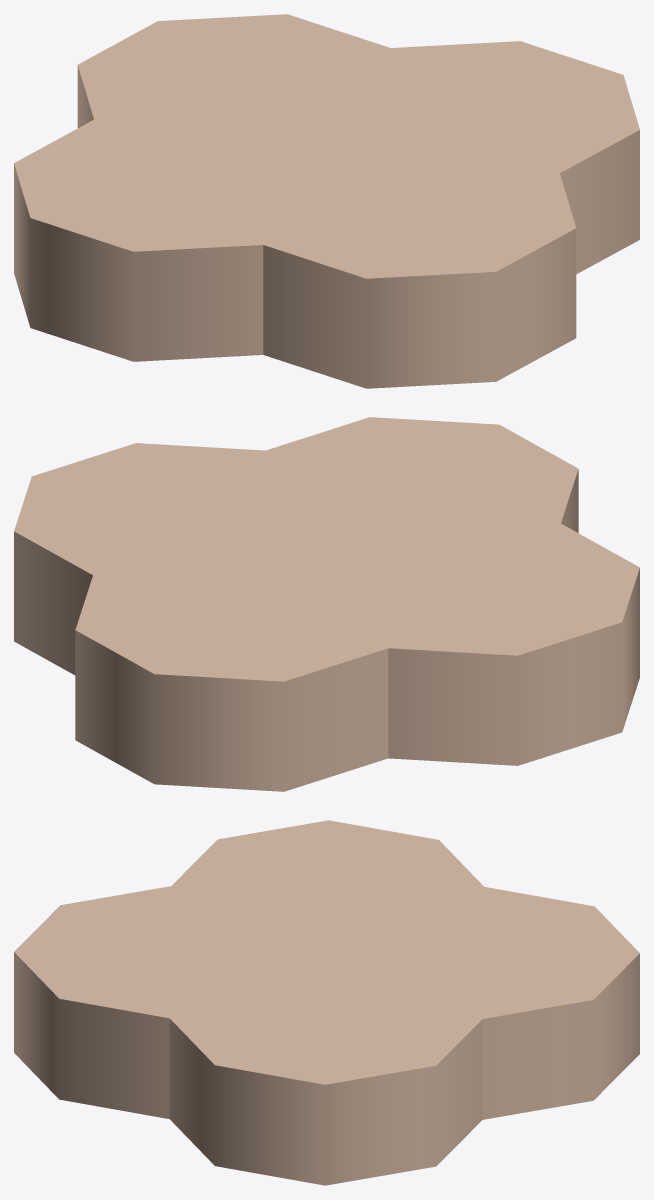
File: SM_Shape_Flower__02.fbx
3 views of the same model, one above another, from view 1: azimuth 30°, elevation 25°; view 2: azimuth 150°, elevation 25°; view 3: azimuth 270°, elevation 25° (orthographic). The views are drawn at different scales.
Parts seen in each view (by area): view 1: SM_Shape_Flower__02; view 2: SM_Shape_Flower__02; view 3: SM_Shape_Flower__02.
Boxes of the visible parts, <box> form: SM_Shape_Flower__02: <box>14,14,639,388</box>; SM_Shape_Flower__02: <box>14,417,639,791</box>; SM_Shape_Flower__02: <box>14,820,639,1185</box>.
Bounding box in the file's own units: 7.87 × 1.4 × 7.87.
